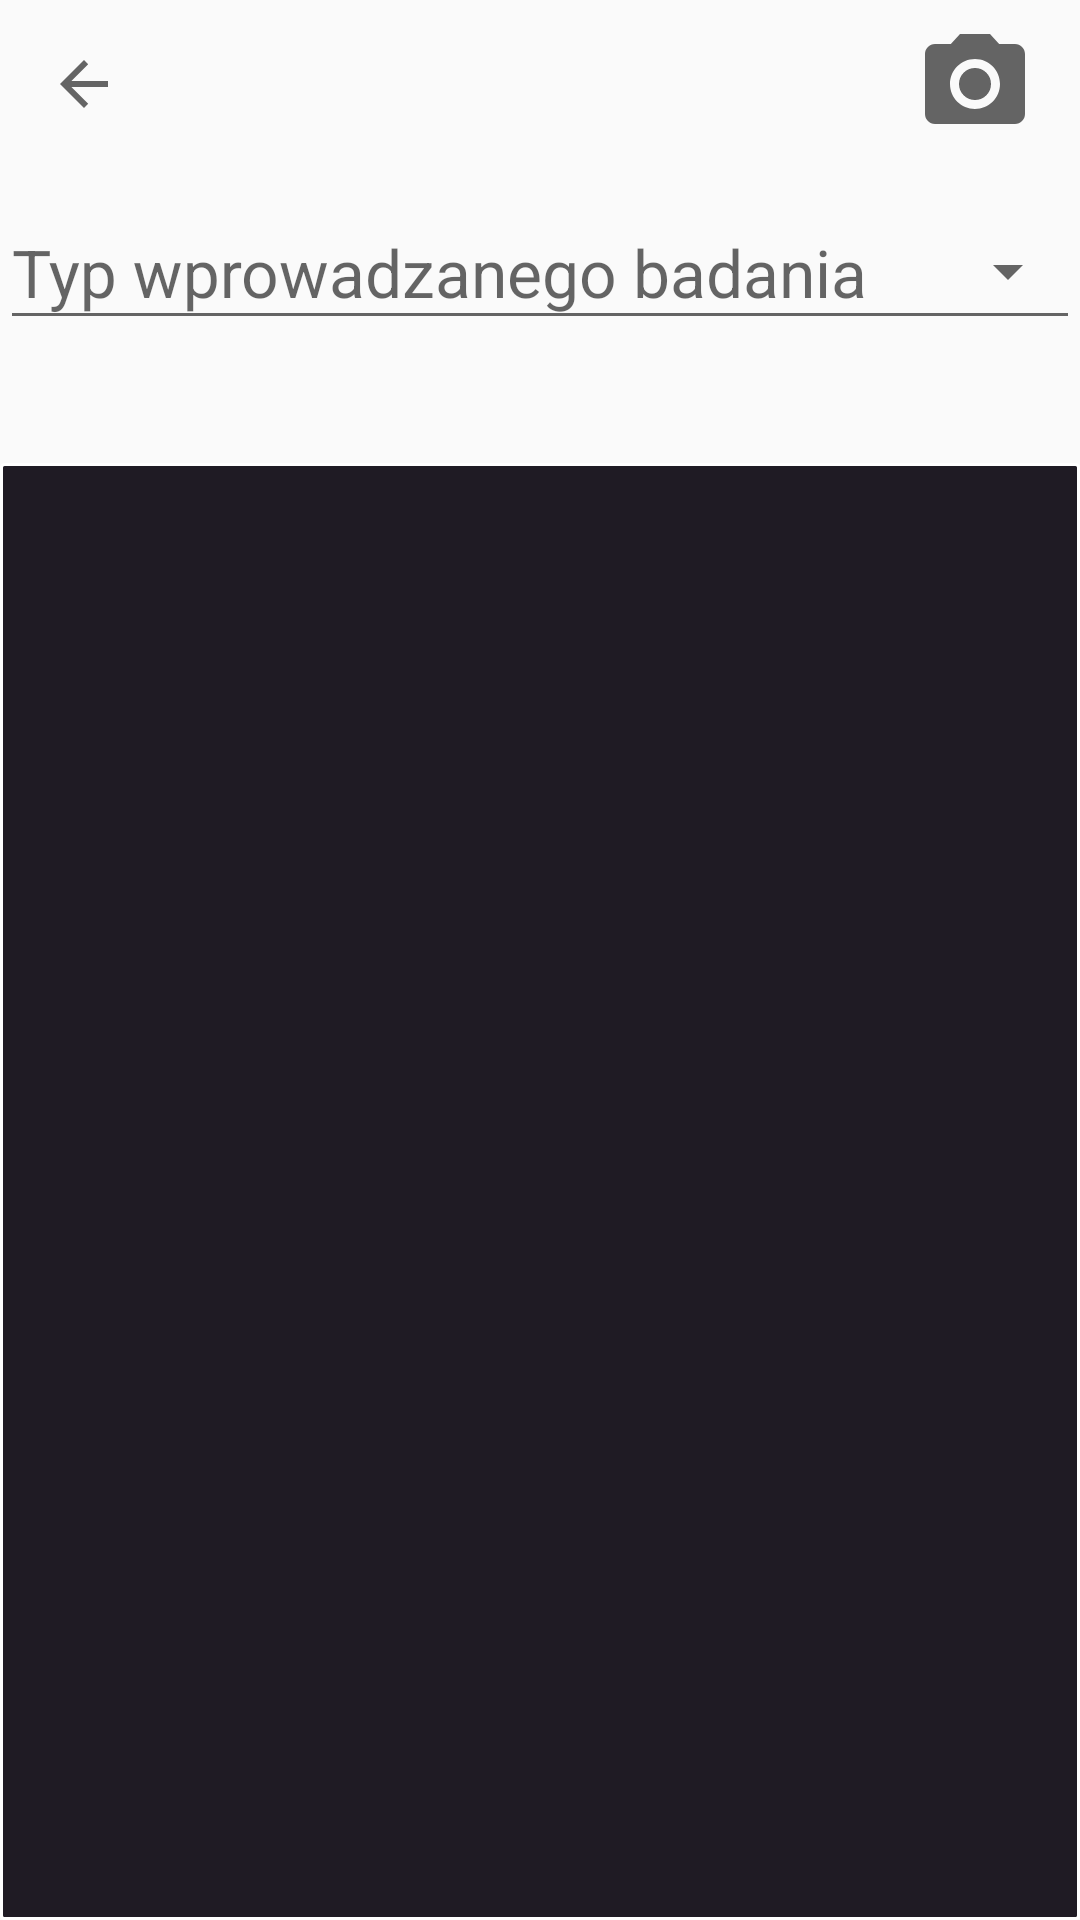

Screen size 1080 x 1920. Icon name, then its center in pixels as (x=x, y=y):
Add Result From Camera: (x=975, y=79)
